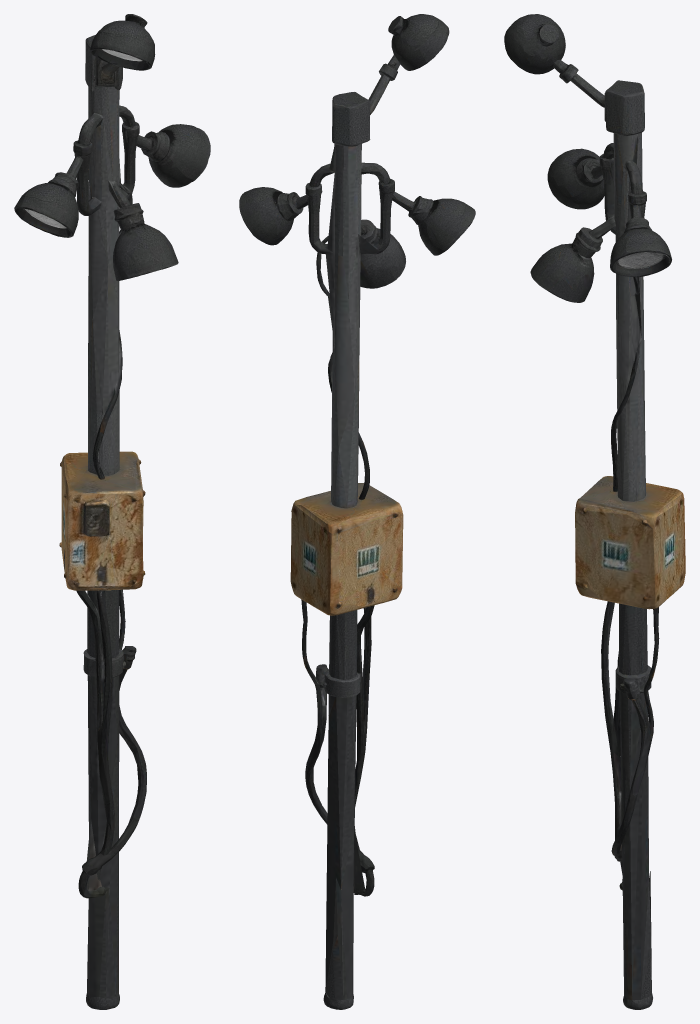
File: floodlight.glb
3 views of the same model, side by side, from view 1: azimuth 30°, elevation 25°; view 2: azimuth 150°, elevation 25°; view 3: azimuth 270°, elevation 25° (orthographic). The views are drawn at different scales.
Visible parts, largest first — view 1: Mesh_0; view 2: Mesh_0; view 3: Mesh_0.
Part boxes in pixels (<box>): Mesh_0: <box>14,14,210,1009</box>; Mesh_0: <box>239,14,475,1009</box>; Mesh_0: <box>504,14,685,1009</box>.
Size of the model in its own units: 0.4157 by 1.9 by 0.3223.
1 material, 1 textured.
